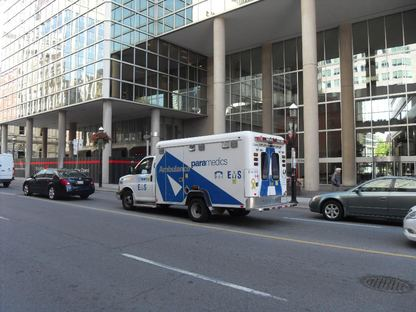ambulance: (115, 128, 296, 223)
truck: (0, 153, 18, 188)
